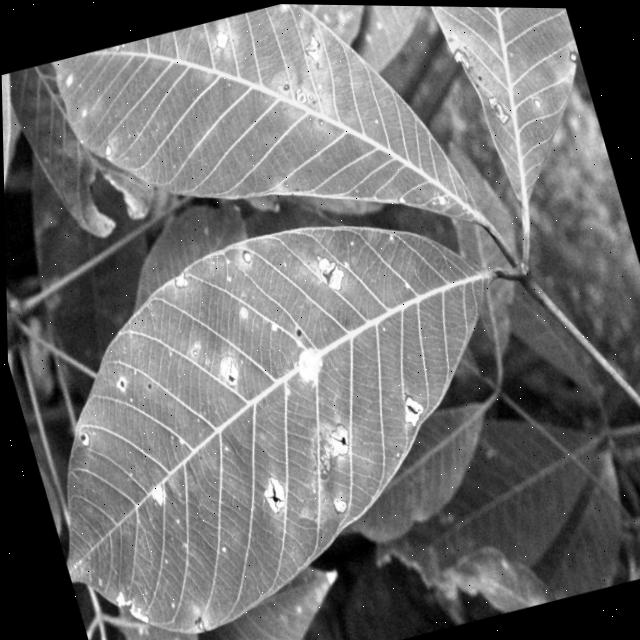Colletotrichum: (240, 247, 252, 263)
